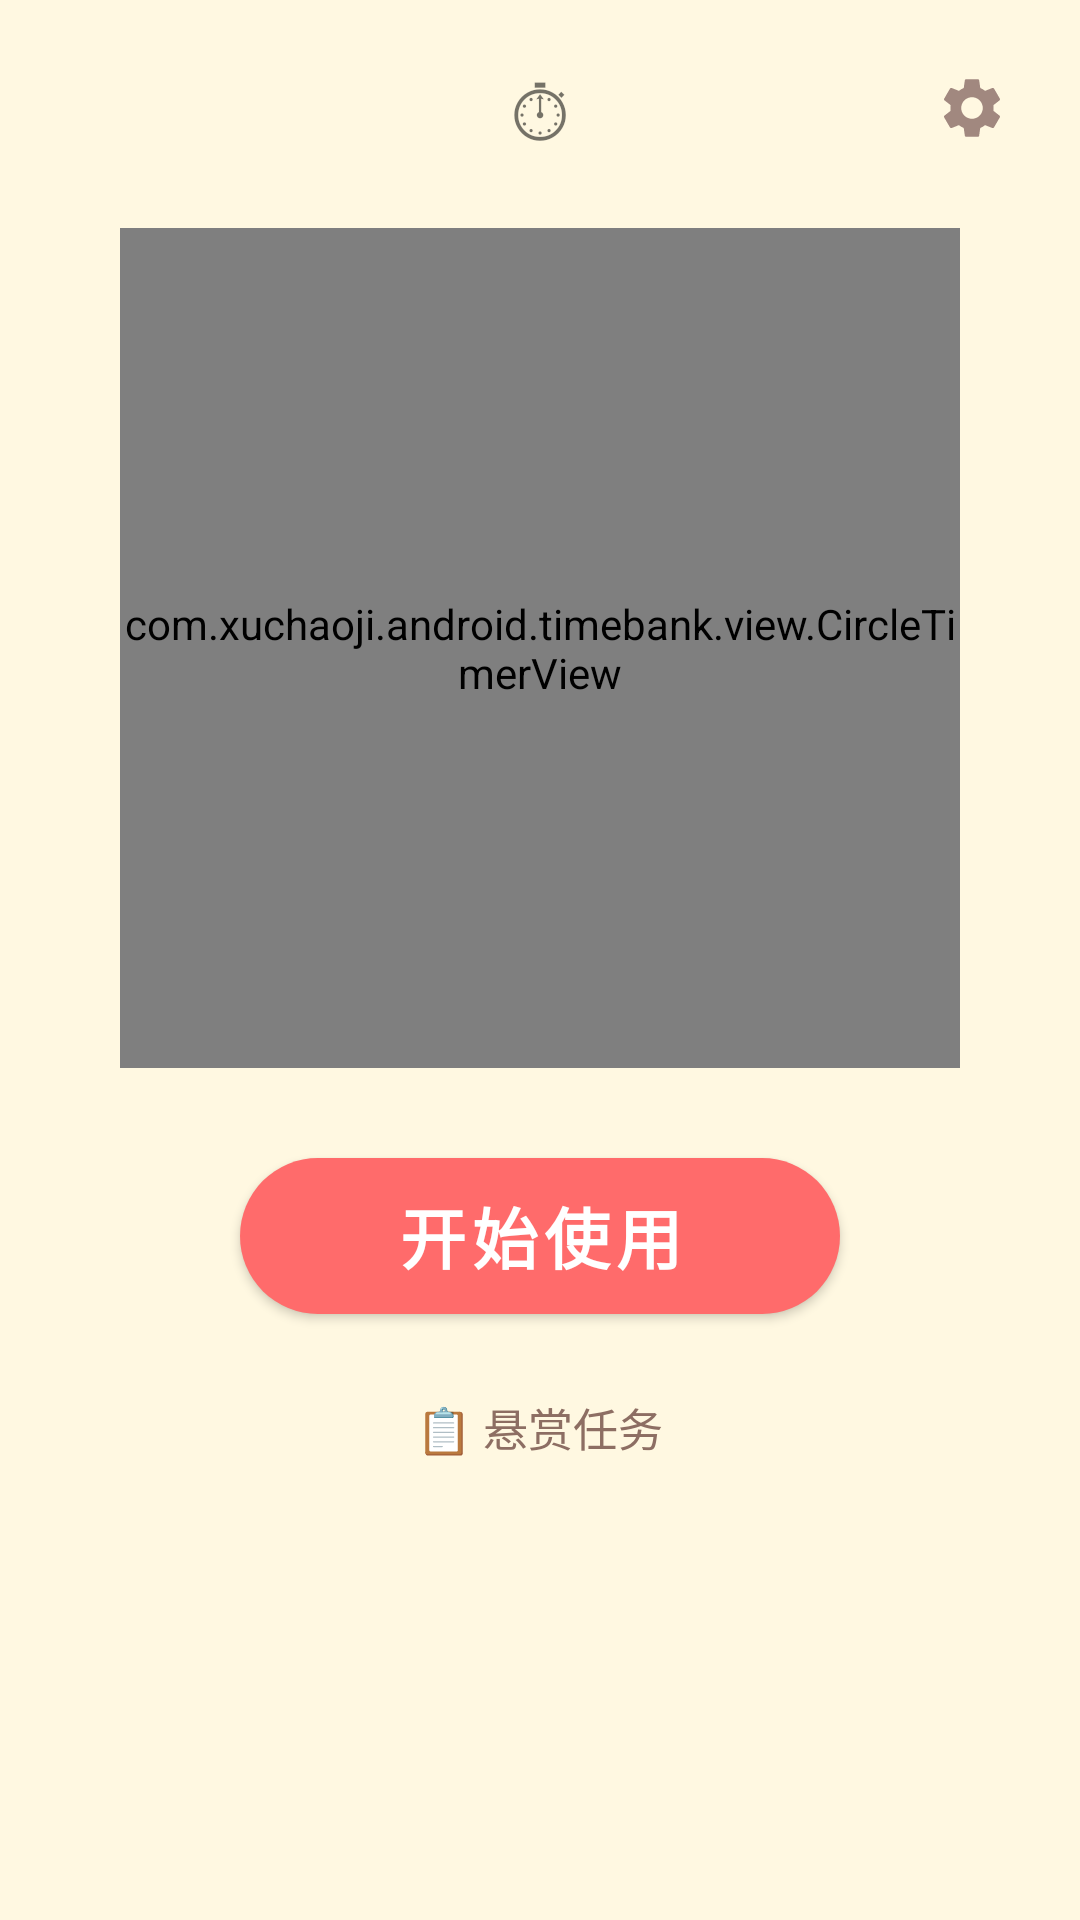

Icon click points for this 1080w x 1920h phone screenshot, format (x,y):
家长管理: (972,108)
